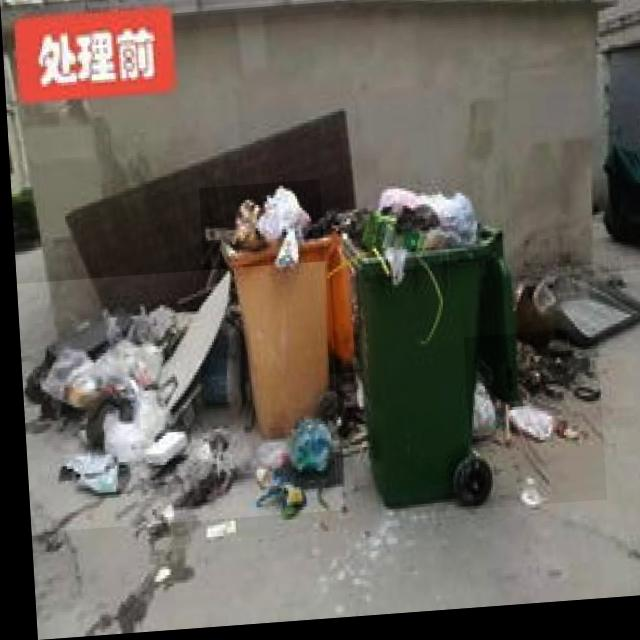garbage: (13, 266, 337, 533), (459, 337, 600, 516)
overflow: (333, 184, 487, 514), (196, 184, 329, 441)
